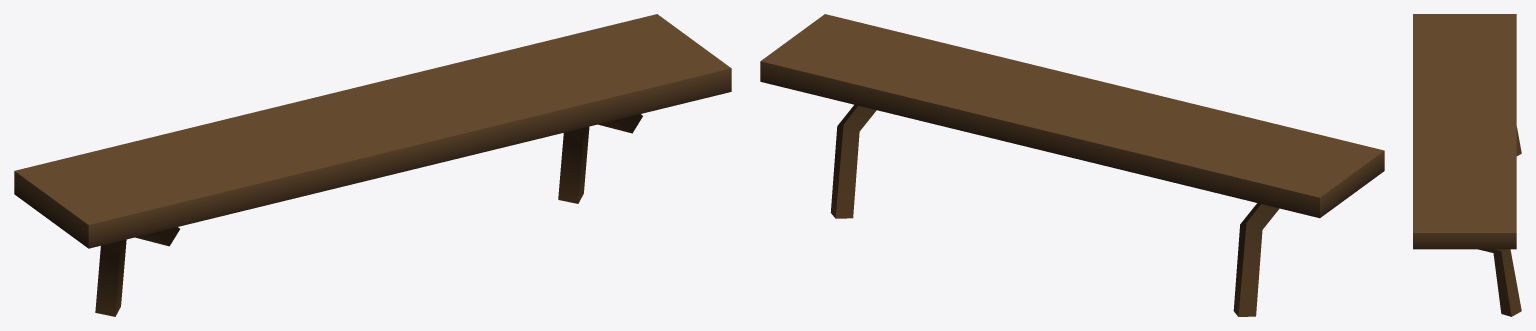
Rendered from keep_shelf.glb.
3 renders of one model, left to right at view 1: azimuth 30°, elevation 25°; view 2: azimuth 150°, elevation 25°; view 3: azimuth 270°, elevation 25°, orthographic. The views are drawn at different scales.
Parts seen in each view (by area): view 1: keep_shelf_trim; view 2: keep_shelf_trim; view 3: keep_shelf_trim.
Boxes of the visible parts, <box> form: keep_shelf_trim: <box>14,14,731,316</box>; keep_shelf_trim: <box>760,14,1384,316</box>; keep_shelf_trim: <box>1413,14,1521,316</box>.
Bounding box in the file's own units: 1 × 0.2378 × 0.2098.
